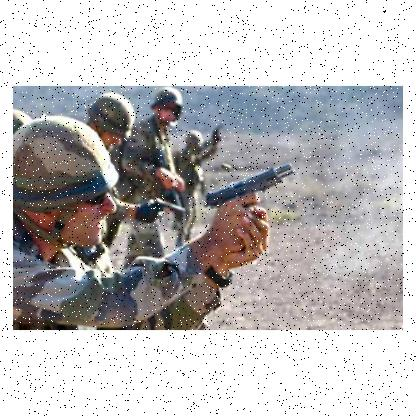gun: (201, 162, 295, 240), (145, 194, 185, 226)
